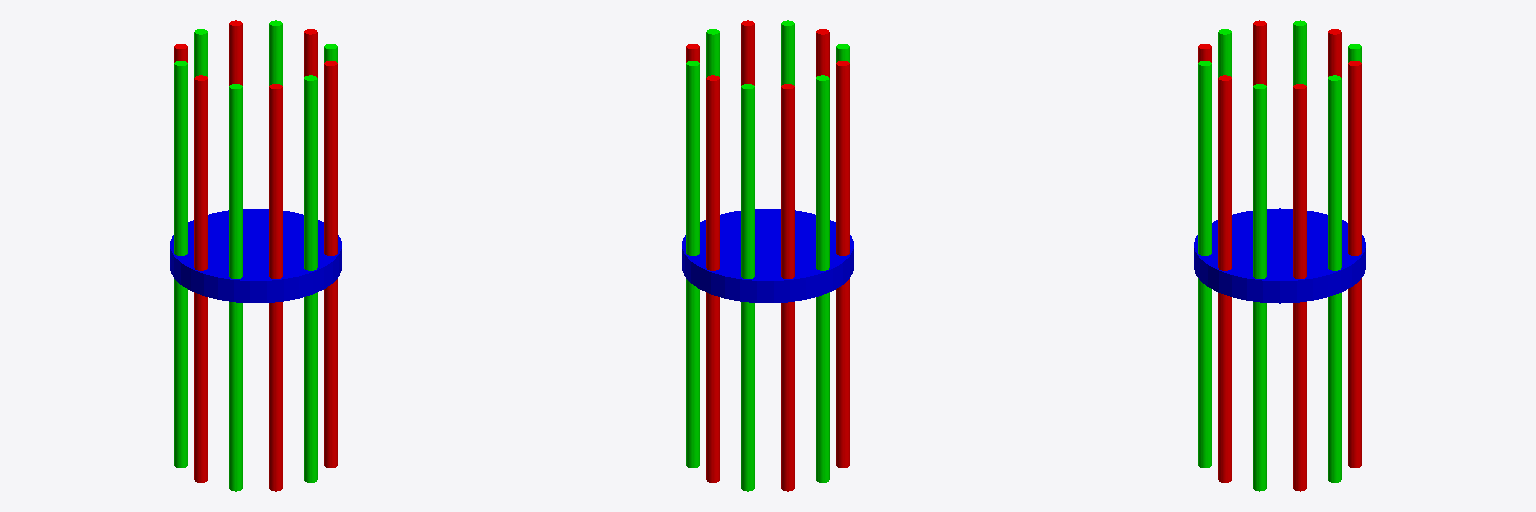
robot.urdf — spider:
<?xml version="1.0"?>
<robot name="spider">
  <link name="base_link">
    <visual><geometry><cylinder length="0.1" radius="0.3510764250342883"/></geometry><material name="blue"><color rgba="0 0 1 1"/></material></visual>
    <collision><geometry><cylinder length="0.1" radius="0.3510764250342883"/></geometry></collision>
    <inertial><mass value="1.0"/><inertia ixx="0.1" iyy="0.1" izz="0.1" ixy="0" ixz="0" iyz="0"/></inertial>
  </link>
  <link name="leg_0">
    <visual><geometry><cylinder length="1.8072645967345247" radius="0.02717238239457087"/></geometry><material name="c_0"><color rgba="1 0 0 1"/></material></visual>
    <collision><geometry><cylinder length="1.8072645967345247" radius="0.02717238239457087"/></geometry></collision>
    <inertial><mass value="0.2"/><inertia ixx="0.01" iyy="0.01" izz="0.01" ixy="0" ixz="0" iyz="0"/></inertial>
    <contact><lateral_friction value="4.0"/></contact>
  </link>
  <joint name="base_to_leg0" type="revolute">
    <parent link="base_link"/>
    <child link="leg_0"/>
    <origin xyz="0.30520240734767135 0.08177873857684309 0" rpy="0 0 0"/>
    <axis xyz="1 0 0"/>
    <limit effort="2000" velocity="100.0" lower="-10000" upper="10000"/>
  </joint>
  <link name="leg_1">
    <visual><geometry><cylinder length="1.8072645967345247" radius="0.02717238239457087"/></geometry><material name="c_1"><color rgba="0 1 0 1"/></material></visual>
    <collision><geometry><cylinder length="1.8072645967345247" radius="0.02717238239457087"/></geometry></collision>
    <inertial><mass value="0.2"/><inertia ixx="0.01" iyy="0.01" izz="0.01" ixy="0" ixz="0" iyz="0"/></inertial>
    <contact><lateral_friction value="4.0"/></contact>
  </link>
  <joint name="base_to_leg1" type="revolute">
    <parent link="base_link"/>
    <child link="leg_1"/>
    <origin xyz="0.22342366877082828 0.22342366877082825 0" rpy="0 0 0"/>
    <axis xyz="1 0 0"/>
    <limit effort="2000" velocity="100.0" lower="-10000" upper="10000"/>
  </joint>
  <link name="leg_2">
    <visual><geometry><cylinder length="1.8072645967345247" radius="0.02717238239457087"/></geometry><material name="c_2"><color rgba="1 0 0 1"/></material></visual>
    <collision><geometry><cylinder length="1.8072645967345247" radius="0.02717238239457087"/></geometry></collision>
    <inertial><mass value="0.2"/><inertia ixx="0.01" iyy="0.01" izz="0.01" ixy="0" ixz="0" iyz="0"/></inertial>
    <contact><lateral_friction value="4.0"/></contact>
  </link>
  <joint name="base_to_leg2" type="revolute">
    <parent link="base_link"/>
    <child link="leg_2"/>
    <origin xyz="0.08177873857684316 0.30520240734767135 0" rpy="0 0 0"/>
    <axis xyz="1 0 0"/>
    <limit effort="2000" velocity="100.0" lower="-10000" upper="10000"/>
  </joint>
  <link name="leg_3">
    <visual><geometry><cylinder length="1.8072645967345247" radius="0.02717238239457087"/></geometry><material name="c_3"><color rgba="0 1 0 1"/></material></visual>
    <collision><geometry><cylinder length="1.8072645967345247" radius="0.02717238239457087"/></geometry></collision>
    <inertial><mass value="0.2"/><inertia ixx="0.01" iyy="0.01" izz="0.01" ixy="0" ixz="0" iyz="0"/></inertial>
    <contact><lateral_friction value="4.0"/></contact>
  </link>
  <joint name="base_to_leg3" type="revolute">
    <parent link="base_link"/>
    <child link="leg_3"/>
    <origin xyz="-0.08177873857684305 0.30520240734767135 0" rpy="0 0 0"/>
    <axis xyz="1 0 0"/>
    <limit effort="2000" velocity="100.0" lower="-10000" upper="10000"/>
  </joint>
  <link name="leg_4">
    <visual><geometry><cylinder length="1.8072645967345247" radius="0.02717238239457087"/></geometry><material name="c_4"><color rgba="1 0 0 1"/></material></visual>
    <collision><geometry><cylinder length="1.8072645967345247" radius="0.02717238239457087"/></geometry></collision>
    <inertial><mass value="0.2"/><inertia ixx="0.01" iyy="0.01" izz="0.01" ixy="0" ixz="0" iyz="0"/></inertial>
    <contact><lateral_friction value="4.0"/></contact>
  </link>
  <joint name="base_to_leg4" type="revolute">
    <parent link="base_link"/>
    <child link="leg_4"/>
    <origin xyz="-0.22342366877082825 0.22342366877082828 0" rpy="0 0 0"/>
    <axis xyz="1 0 0"/>
    <limit effort="2000" velocity="100.0" lower="-10000" upper="10000"/>
  </joint>
  <link name="leg_5">
    <visual><geometry><cylinder length="1.8072645967345247" radius="0.02717238239457087"/></geometry><material name="c_5"><color rgba="0 1 0 1"/></material></visual>
    <collision><geometry><cylinder length="1.8072645967345247" radius="0.02717238239457087"/></geometry></collision>
    <inertial><mass value="0.2"/><inertia ixx="0.01" iyy="0.01" izz="0.01" ixy="0" ixz="0" iyz="0"/></inertial>
    <contact><lateral_friction value="4.0"/></contact>
  </link>
  <joint name="base_to_leg5" type="revolute">
    <parent link="base_link"/>
    <child link="leg_5"/>
    <origin xyz="-0.30520240734767135 0.08177873857684317 0" rpy="0 0 0"/>
    <axis xyz="1 0 0"/>
    <limit effort="2000" velocity="100.0" lower="-10000" upper="10000"/>
  </joint>
  <link name="leg_6">
    <visual><geometry><cylinder length="1.8072645967345247" radius="0.02717238239457087"/></geometry><material name="c_6"><color rgba="1 0 0 1"/></material></visual>
    <collision><geometry><cylinder length="1.8072645967345247" radius="0.02717238239457087"/></geometry></collision>
    <inertial><mass value="0.2"/><inertia ixx="0.01" iyy="0.01" izz="0.01" ixy="0" ixz="0" iyz="0"/></inertial>
    <contact><lateral_friction value="4.0"/></contact>
  </link>
  <joint name="base_to_leg6" type="revolute">
    <parent link="base_link"/>
    <child link="leg_6"/>
    <origin xyz="-0.30520240734767135 -0.0817787385768431 0" rpy="0 0 0"/>
    <axis xyz="1 0 0"/>
    <limit effort="2000" velocity="100.0" lower="-10000" upper="10000"/>
  </joint>
  <link name="leg_7">
    <visual><geometry><cylinder length="1.8072645967345247" radius="0.02717238239457087"/></geometry><material name="c_7"><color rgba="0 1 0 1"/></material></visual>
    <collision><geometry><cylinder length="1.8072645967345247" radius="0.02717238239457087"/></geometry></collision>
    <inertial><mass value="0.2"/><inertia ixx="0.01" iyy="0.01" izz="0.01" ixy="0" ixz="0" iyz="0"/></inertial>
    <contact><lateral_friction value="4.0"/></contact>
  </link>
  <joint name="base_to_leg7" type="revolute">
    <parent link="base_link"/>
    <child link="leg_7"/>
    <origin xyz="-0.2234236687708283 -0.22342366877082825 0" rpy="0 0 0"/>
    <axis xyz="1 0 0"/>
    <limit effort="2000" velocity="100.0" lower="-10000" upper="10000"/>
  </joint>
  <link name="leg_8">
    <visual><geometry><cylinder length="1.8072645967345247" radius="0.02717238239457087"/></geometry><material name="c_8"><color rgba="1 0 0 1"/></material></visual>
    <collision><geometry><cylinder length="1.8072645967345247" radius="0.02717238239457087"/></geometry></collision>
    <inertial><mass value="0.2"/><inertia ixx="0.01" iyy="0.01" izz="0.01" ixy="0" ixz="0" iyz="0"/></inertial>
    <contact><lateral_friction value="4.0"/></contact>
  </link>
  <joint name="base_to_leg8" type="revolute">
    <parent link="base_link"/>
    <child link="leg_8"/>
    <origin xyz="-0.08177873857684333 -0.3052024073476713 0" rpy="0 0 0"/>
    <axis xyz="1 0 0"/>
    <limit effort="2000" velocity="100.0" lower="-10000" upper="10000"/>
  </joint>
  <link name="leg_9">
    <visual><geometry><cylinder length="1.8072645967345247" radius="0.02717238239457087"/></geometry><material name="c_9"><color rgba="0 1 0 1"/></material></visual>
    <collision><geometry><cylinder length="1.8072645967345247" radius="0.02717238239457087"/></geometry></collision>
    <inertial><mass value="0.2"/><inertia ixx="0.01" iyy="0.01" izz="0.01" ixy="0" ixz="0" iyz="0"/></inertial>
    <contact><lateral_friction value="4.0"/></contact>
  </link>
  <joint name="base_to_leg9" type="revolute">
    <parent link="base_link"/>
    <child link="leg_9"/>
    <origin xyz="0.08177873857684294 -0.3052024073476714 0" rpy="0 0 0"/>
    <axis xyz="1 0 0"/>
    <limit effort="2000" velocity="100.0" lower="-10000" upper="10000"/>
  </joint>
  <link name="leg_10">
    <visual><geometry><cylinder length="1.8072645967345247" radius="0.02717238239457087"/></geometry><material name="c_10"><color rgba="1 0 0 1"/></material></visual>
    <collision><geometry><cylinder length="1.8072645967345247" radius="0.02717238239457087"/></geometry></collision>
    <inertial><mass value="0.2"/><inertia ixx="0.01" iyy="0.01" izz="0.01" ixy="0" ixz="0" iyz="0"/></inertial>
    <contact><lateral_friction value="4.0"/></contact>
  </link>
  <joint name="base_to_leg10" type="revolute">
    <parent link="base_link"/>
    <child link="leg_10"/>
    <origin xyz="0.22342366877082803 -0.22342366877082853 0" rpy="0 0 0"/>
    <axis xyz="1 0 0"/>
    <limit effort="2000" velocity="100.0" lower="-10000" upper="10000"/>
  </joint>
  <link name="leg_11">
    <visual><geometry><cylinder length="1.8072645967345247" radius="0.02717238239457087"/></geometry><material name="c_11"><color rgba="0 1 0 1"/></material></visual>
    <collision><geometry><cylinder length="1.8072645967345247" radius="0.02717238239457087"/></geometry></collision>
    <inertial><mass value="0.2"/><inertia ixx="0.01" iyy="0.01" izz="0.01" ixy="0" ixz="0" iyz="0"/></inertial>
    <contact><lateral_friction value="4.0"/></contact>
  </link>
  <joint name="base_to_leg11" type="revolute">
    <parent link="base_link"/>
    <child link="leg_11"/>
    <origin xyz="0.3052024073476713 -0.08177873857684335 0" rpy="0 0 0"/>
    <axis xyz="1 0 0"/>
    <limit effort="2000" velocity="100.0" lower="-10000" upper="10000"/>
  </joint>
</robot>

--- Facts derived from the render (not from the file) ---
Views: 3 orthographic renders of the robot side by side, from view 1: azimuth 30°, elevation 25°; view 2: azimuth 150°, elevation 25°; view 3: azimuth 270°, elevation 25°.
Model spider with 13 links and 12 joints (12 revolute), rooted at base_link, posed every joint at zero.
Visible links, largest first — view 1: base_link, leg_8, leg_7, leg_6, leg_9, leg_10, leg_5, leg_1, leg_2, leg_0, leg_3; view 2: base_link, leg_3, leg_4, leg_2, leg_5, leg_1, leg_6, leg_9, leg_10, leg_8, leg_11; view 3: base_link, leg_0, leg_11, leg_1, leg_10, leg_2, leg_9, leg_5, leg_6, leg_4, leg_7.
Link boxes in pixels (x1,y1,x2,y2): base_link: (170,209,341,302); leg_8: (269,84,282,491); leg_7: (229,84,242,491); leg_6: (194,75,207,482); leg_9: (304,75,317,482); leg_10: (324,61,337,467); leg_5: (174,61,187,467); leg_1: (269,20,282,85); leg_2: (229,20,242,85); leg_0: (304,29,317,77); leg_3: (194,29,207,77); base_link: (682,209,853,302); leg_3: (741,84,754,491); leg_4: (781,84,794,491); leg_2: (706,75,719,482); leg_5: (816,75,829,482); leg_1: (686,61,699,467); leg_6: (836,61,849,467); leg_9: (781,20,794,85); leg_10: (741,20,754,85); leg_8: (816,29,829,77); leg_11: (706,29,719,77); base_link: (1194,208,1365,303); leg_0: (1293,84,1306,491); leg_11: (1253,84,1266,491); leg_1: (1328,75,1341,482); leg_10: (1218,75,1231,482); leg_2: (1348,61,1361,467); leg_9: (1198,61,1211,467); leg_5: (1293,20,1306,85); leg_6: (1253,20,1266,85); leg_4: (1328,29,1341,77); leg_7: (1218,29,1231,77).
Bounding box of the posed robot: 0.7022 × 0.7022 × 1.81 m (x, y, z).
Geometry: primitives only (box / cylinder / sphere), no mesh files.
